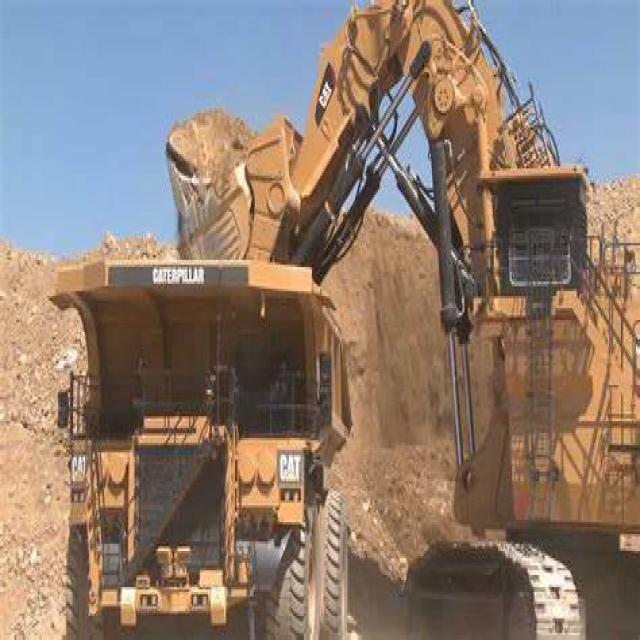dump_truck: (59, 234, 360, 636)
excavator: (159, 17, 639, 623)
